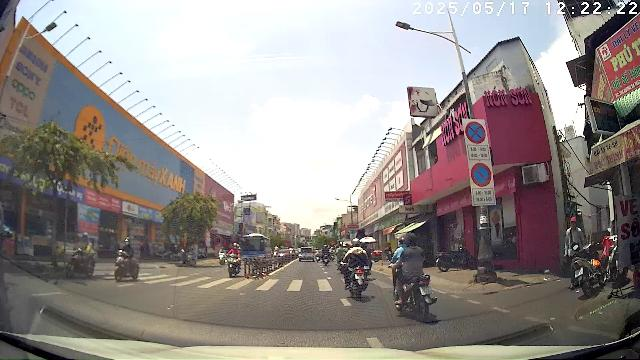130-cam-dung-va-do-xe: (465, 121, 486, 144)
131a-cam-do-xe: (470, 162, 492, 188)
